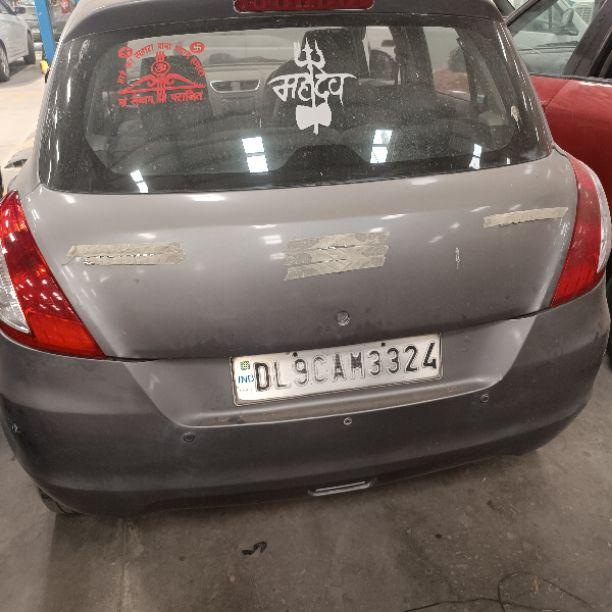license_plate: (229, 331, 444, 406)
